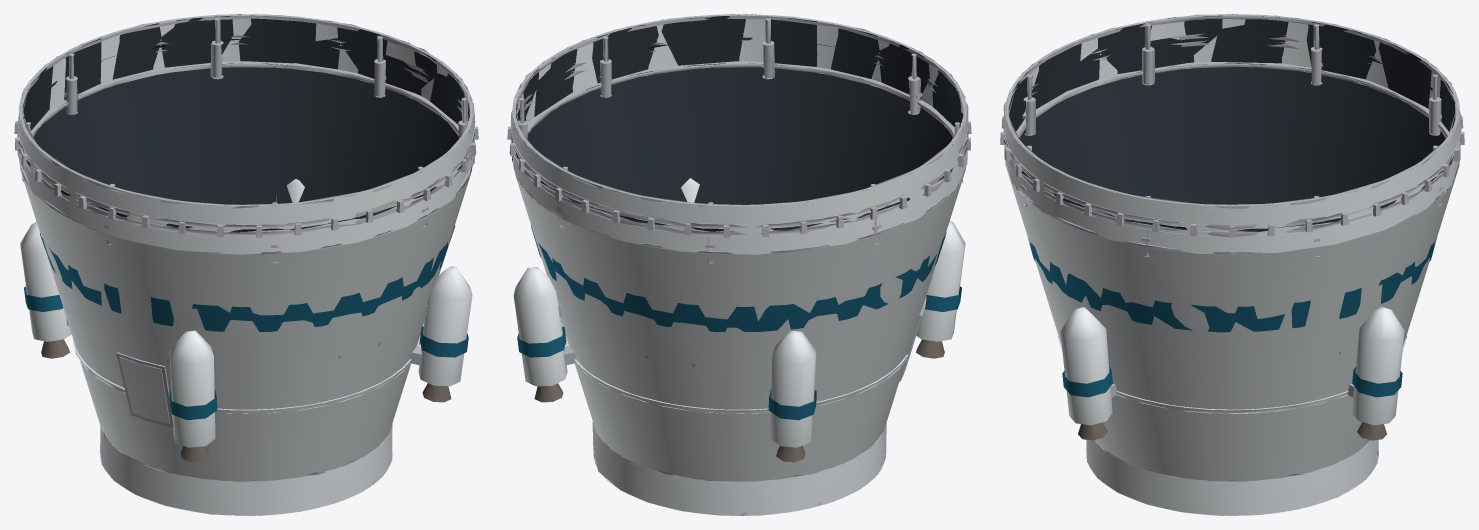
File: interstage_pyro_d54_to_d84.glb
The picture shows the model from 3 angles, left to right: view 1: azimuth 30°, elevation 25°; view 2: azimuth 150°, elevation 25°; view 3: azimuth 270°, elevation 25°; orthographic projection.
Parts seen in each view (by area): view 1: interstage_pyro_d54_to_d84_mesh; view 2: interstage_pyro_d54_to_d84_mesh; view 3: interstage_pyro_d54_to_d84_mesh.
Boxes of the visible parts, bbox=[...] form: interstage_pyro_d54_to_d84_mesh: bbox=[14, 14, 478, 515]; interstage_pyro_d54_to_d84_mesh: bbox=[507, 14, 971, 515]; interstage_pyro_d54_to_d84_mesh: bbox=[1000, 14, 1464, 515].
Size of the model in its own units: 8.56 by 7 by 8.57.
